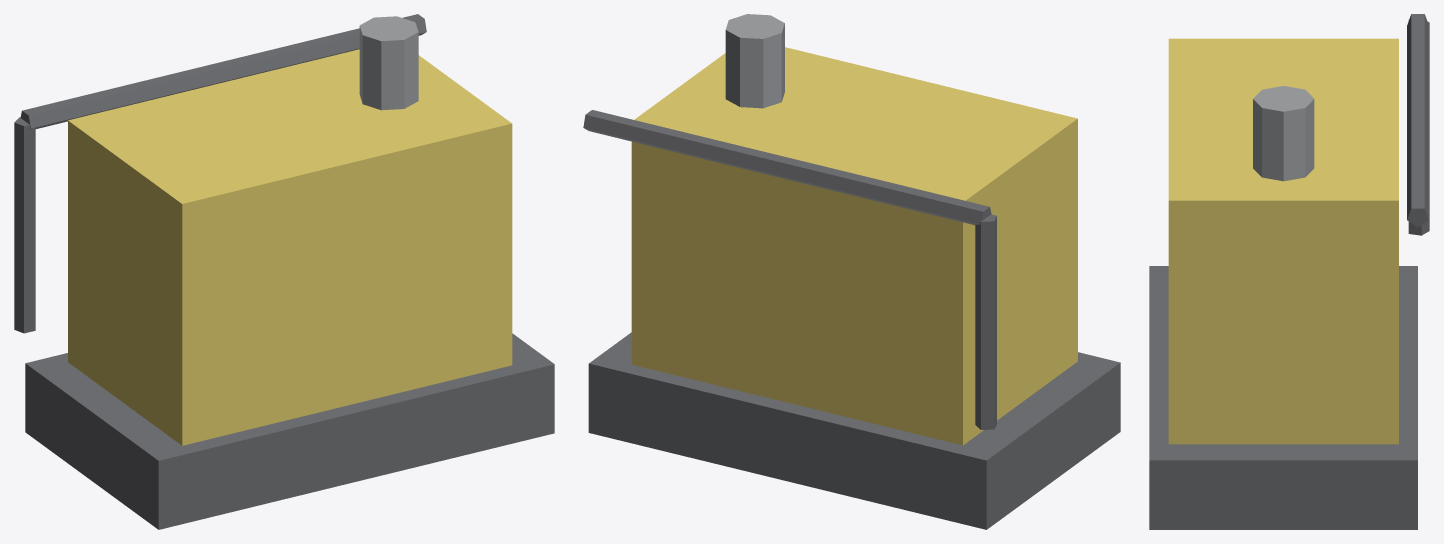
File: deploy_generator.glb
The picture shows the model from 3 angles, left to right: view 1: azimuth 30°, elevation 25°; view 2: azimuth 150°, elevation 25°; view 3: azimuth 270°, elevation 25°; orthographic projection.
Visible parts, largest first — view 1: deploy_generator; view 2: deploy_generator; view 3: deploy_generator.
Part boxes in pixels (bbox=[...]): deploy_generator: bbox=[14, 14, 554, 529]; deploy_generator: bbox=[583, 14, 1120, 529]; deploy_generator: bbox=[1149, 14, 1429, 529].
Size of the model in its own units: 1.23 by 1.1 by 0.73.
